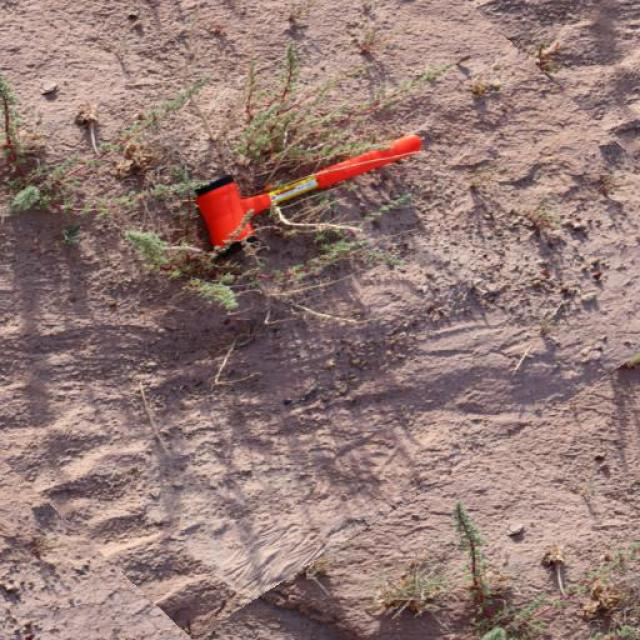mallet: (192, 130, 422, 255)
